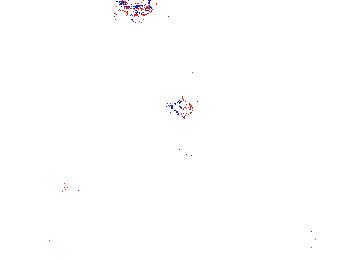X-ray fish: (159, 140, 196, 169), (307, 213, 320, 248)
red belly glassfish: (111, 1, 154, 18), (169, 96, 194, 118)
